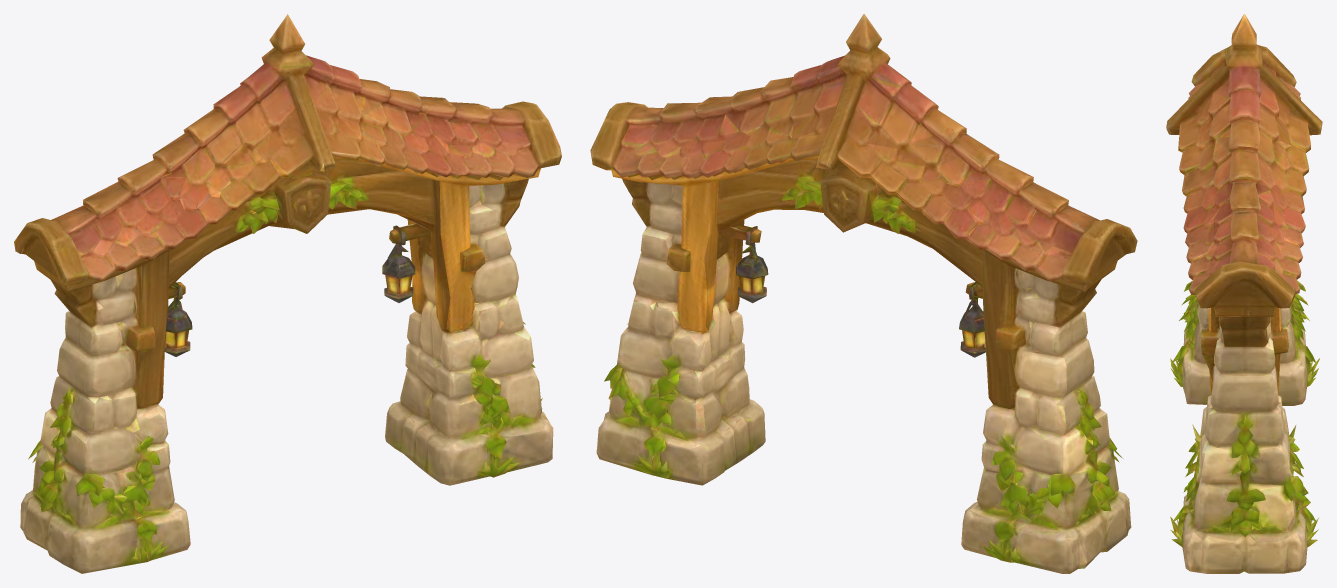
The model's file is lantern-archway.glb.
3 views of the same model, side by side, from view 1: azimuth 30°, elevation 25°; view 2: azimuth 150°, elevation 25°; view 3: azimuth 270°, elevation 25° (orthographic). The views are drawn at different scales.
Parts seen in each view (by area): view 1: Mesh1.0; view 2: Mesh1.0; view 3: Mesh1.0.
Boxes of the visible parts, left/top/right/bottom form: Mesh1.0: left=14, top=14, right=561, bottom=573; Mesh1.0: left=590, top=14, right=1137, bottom=573; Mesh1.0: left=1166, top=14, right=1322, bottom=573.
Bounding box in the file's own units: 1.9 × 1.74 × 0.5483.
Materials: 1 (1 with a texture image).
